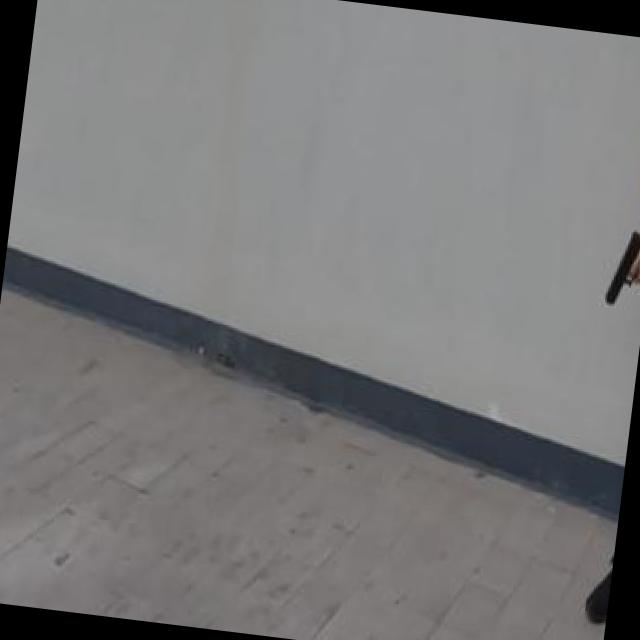Guns: (593, 218, 640, 317)
